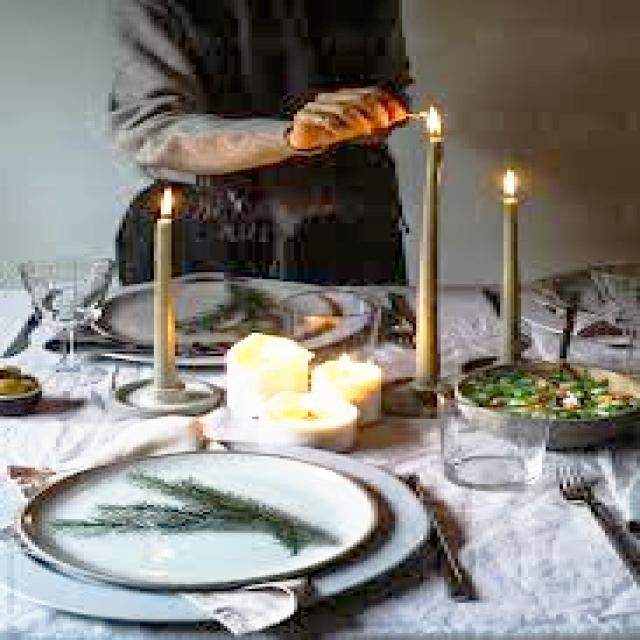api: (414, 99, 452, 138), (145, 183, 187, 218), (494, 162, 519, 197)
